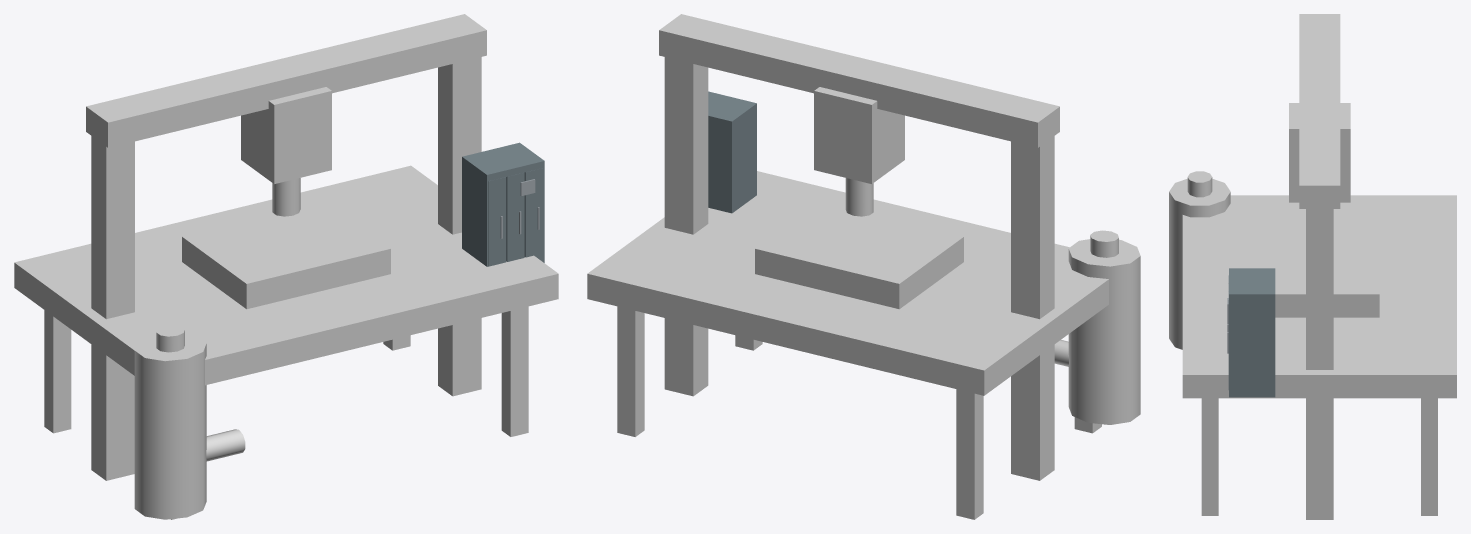
The picture shows the model from 3 angles, left to right: view 1: azimuth 30°, elevation 25°; view 2: azimuth 150°, elevation 25°; view 3: azimuth 270°, elevation 25°; orthographic projection. The views are drawn at different scales.
Parts seen in each view (by area): view 1: worktable_5, crossbeam_9, workpiece_fixture_12, column_7, vessel_13, column_8, laser_head_10, leg_4, leg_1, g0.011, g0.006, g0.004 (+5 smaller); view 2: worktable_5, crossbeam_9, workpiece_fixture_12, column_7, vessel_13, column_8, laser_head_10, leg_1, leg_3, g0.011, g0.008, g0.006 (+2 smaller); view 3: worktable_5, crossbeam_9, column_8, workpiece_fixture_12, g0.009, vessel_13, laser_head_10, leg_4, leg_3, g0.006, lid_14.
Part boxes in pixels (x1,y1,x2,y2): worktable_5: (14, 165, 558, 385); crossbeam_9: (86, 14, 486, 147); workpiece_fixture_12: (182, 201, 390, 309); column_7: (91, 136, 134, 480); vessel_13: (134, 333, 206, 519); column_8: (438, 57, 481, 396); laser_head_10: (241, 87, 331, 184); leg_4: (501, 306, 528, 436); leg_1: (44, 310, 71, 433); g0.011: (462, 156, 490, 266); g0.006: (462, 143, 544, 181); g0.004: (488, 177, 506, 266); worktable_5: (587, 171, 1108, 395); crossbeam_9: (659, 14, 1059, 147); workpiece_fixture_12: (755, 201, 963, 309); column_7: (1011, 136, 1054, 480); vessel_13: (1068, 239, 1140, 424); column_8: (664, 57, 708, 396); laser_head_10: (814, 87, 904, 183); leg_1: (956, 389, 983, 519); leg_3: (617, 306, 644, 436); g0.011: (728, 102, 756, 213); g0.008: (708, 116, 733, 213); g0.006: (708, 91, 756, 126); worktable_5: (1182, 195, 1456, 398); crossbeam_9: (1299, 14, 1340, 208); column_8: (1306, 209, 1333, 519); workpiece_fixture_12: (1260, 229, 1379, 317); g0.009: (1229, 293, 1275, 397); vessel_13: (1169, 178, 1230, 349); laser_head_10: (1289, 103, 1350, 202); leg_4: (1201, 398, 1218, 515); leg_3: (1421, 398, 1437, 515); g0.006: (1229, 270, 1275, 300); lid_14: (1187, 171, 1212, 197).
Bounding box in the file's own units: 2.19 × 1.8 × 1.4.
